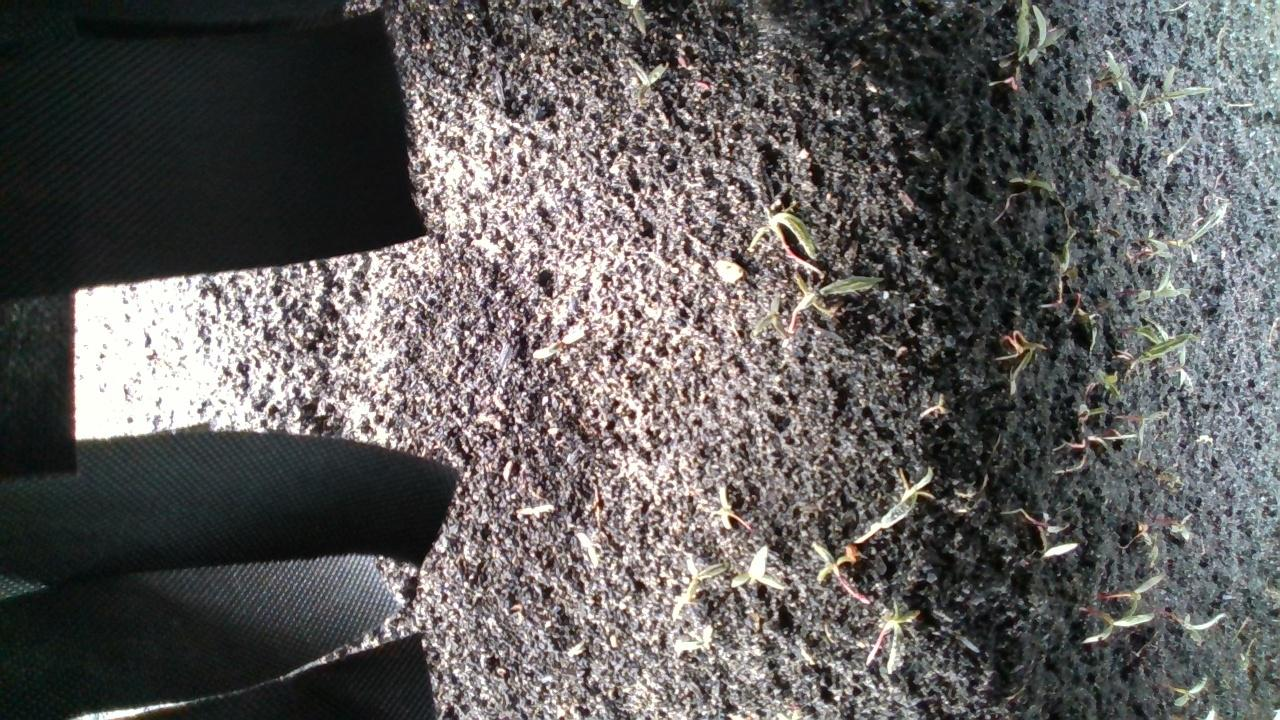weed: (1080, 572, 1149, 647), (627, 58, 662, 101)
